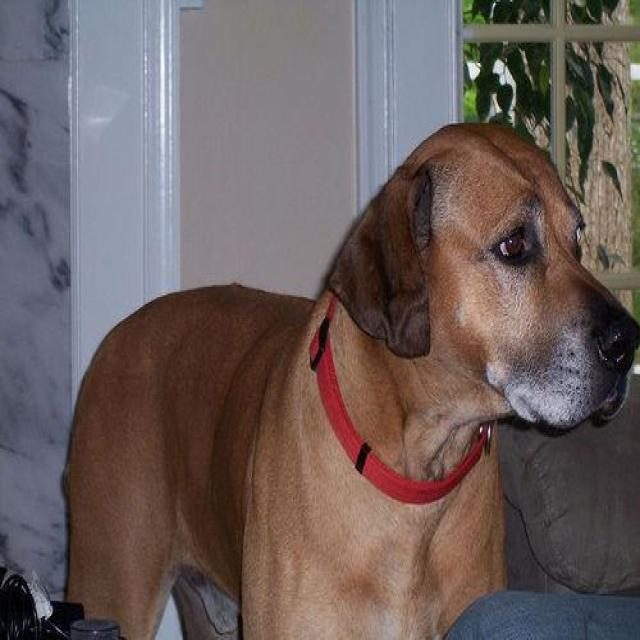rhodesian_ridgeback: (60, 114, 639, 638)
